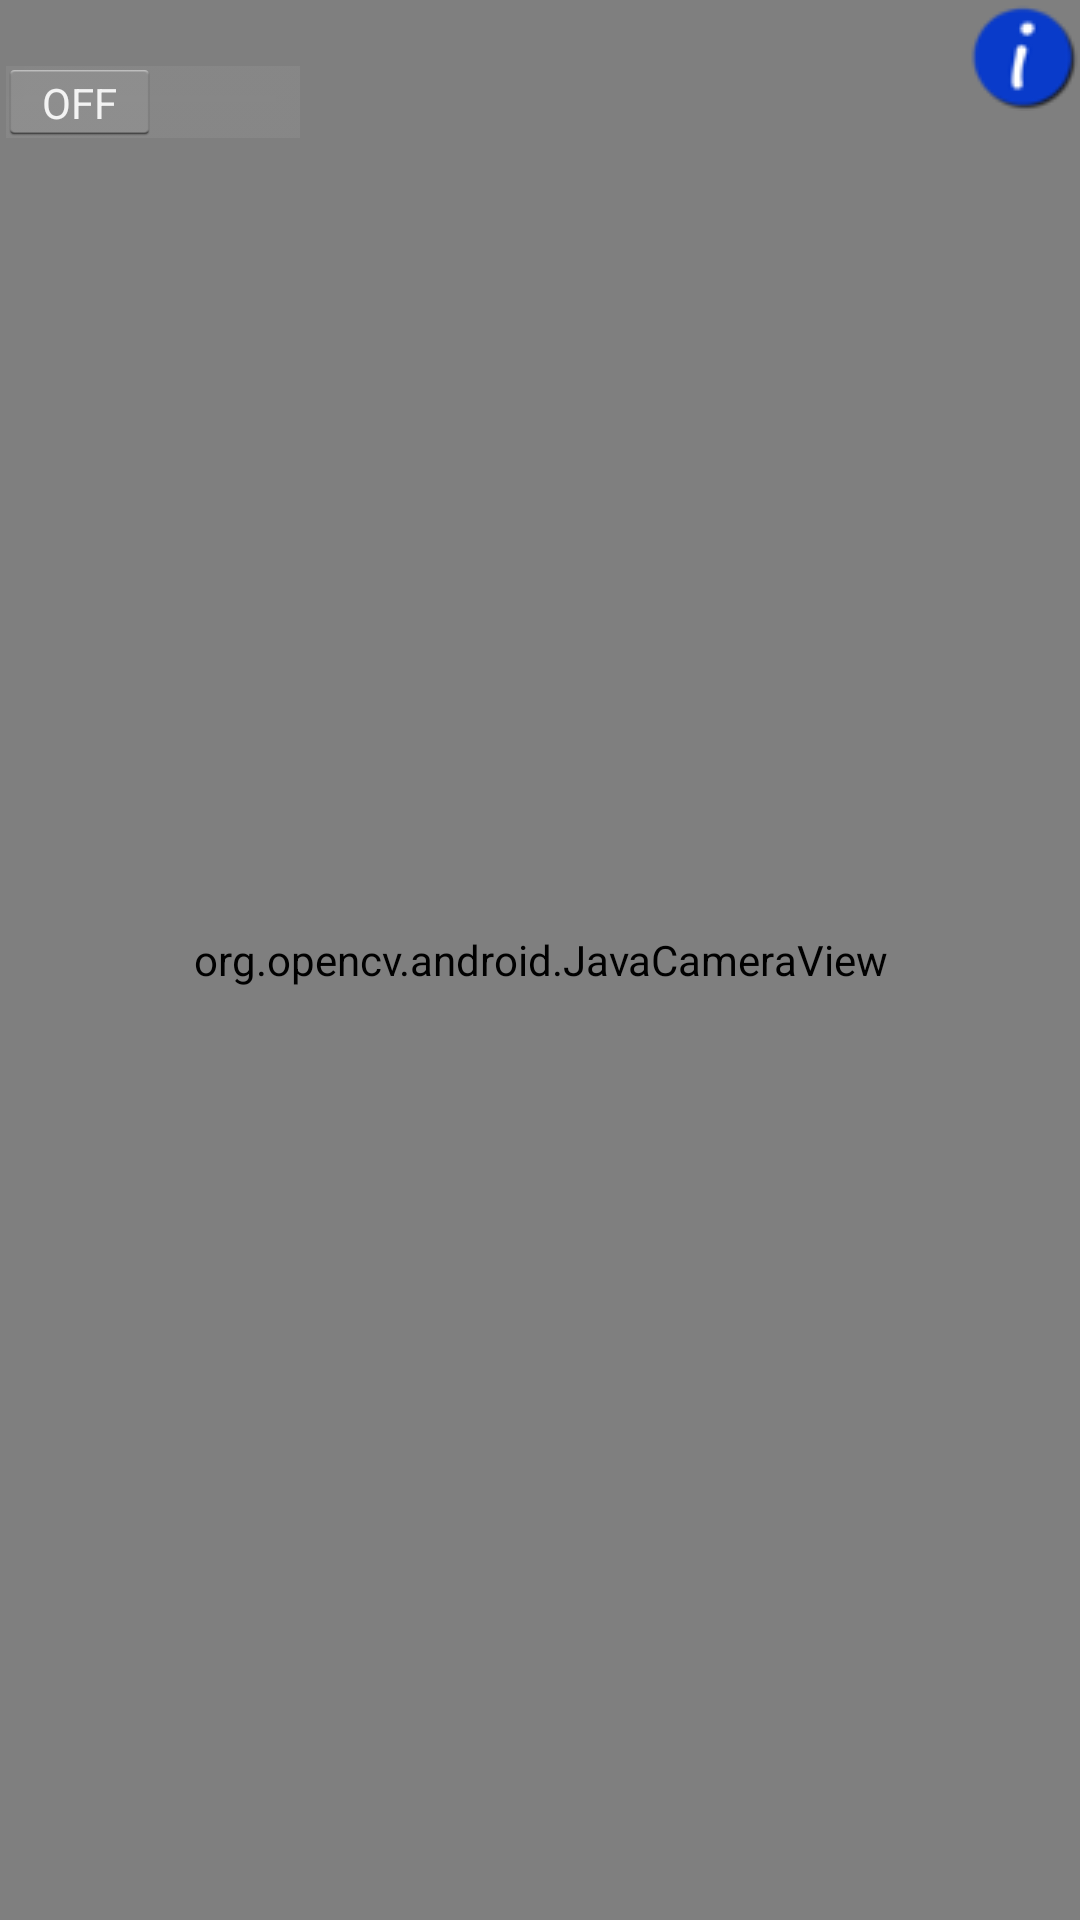

Point at icon controls on the screen. Image size 1080×1920, points as (x,y).
info smallerer: (1023,58)
